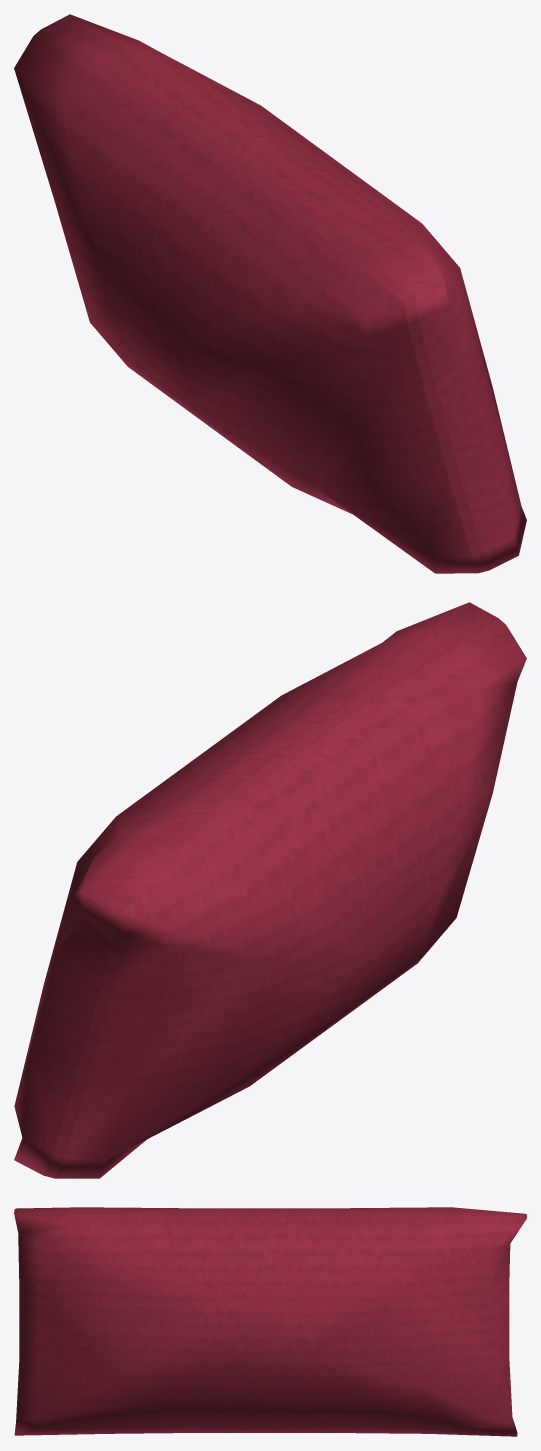
The model's file is Bedpillowsml.FBX.
3 views of the same model, one above another, from view 1: azimuth 30°, elevation 25°; view 2: azimuth 150°, elevation 25°; view 3: azimuth 270°, elevation 25° (orthographic). The views are drawn at different scales.
Visible parts, largest first — view 1: Object007; view 2: Object007; view 3: Object007.
Boxes of the visible parts, <box> form: Object007: <box>14,14,526,573</box>; Object007: <box>14,602,526,1178</box>; Object007: <box>14,1207,526,1436</box>.
Bounding box in the file's own units: 25.44 × 28.29 × 63.73.
1 material, 1 textured.
